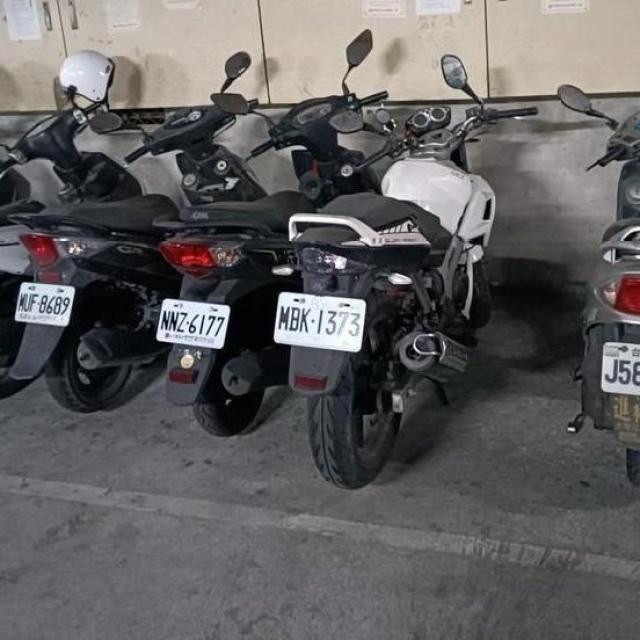W: (269, 285, 370, 356), (152, 288, 233, 354), (9, 272, 79, 332), (593, 332, 640, 403)
